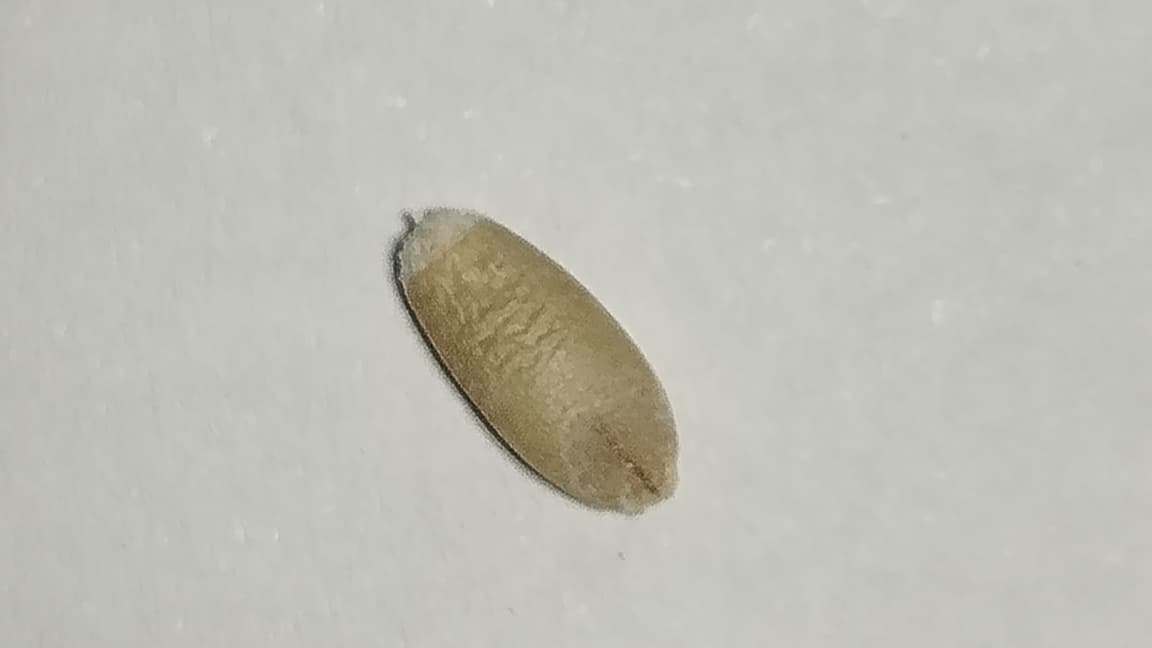damage: (395, 206, 677, 511)
insectdamage: (569, 371, 673, 512)
